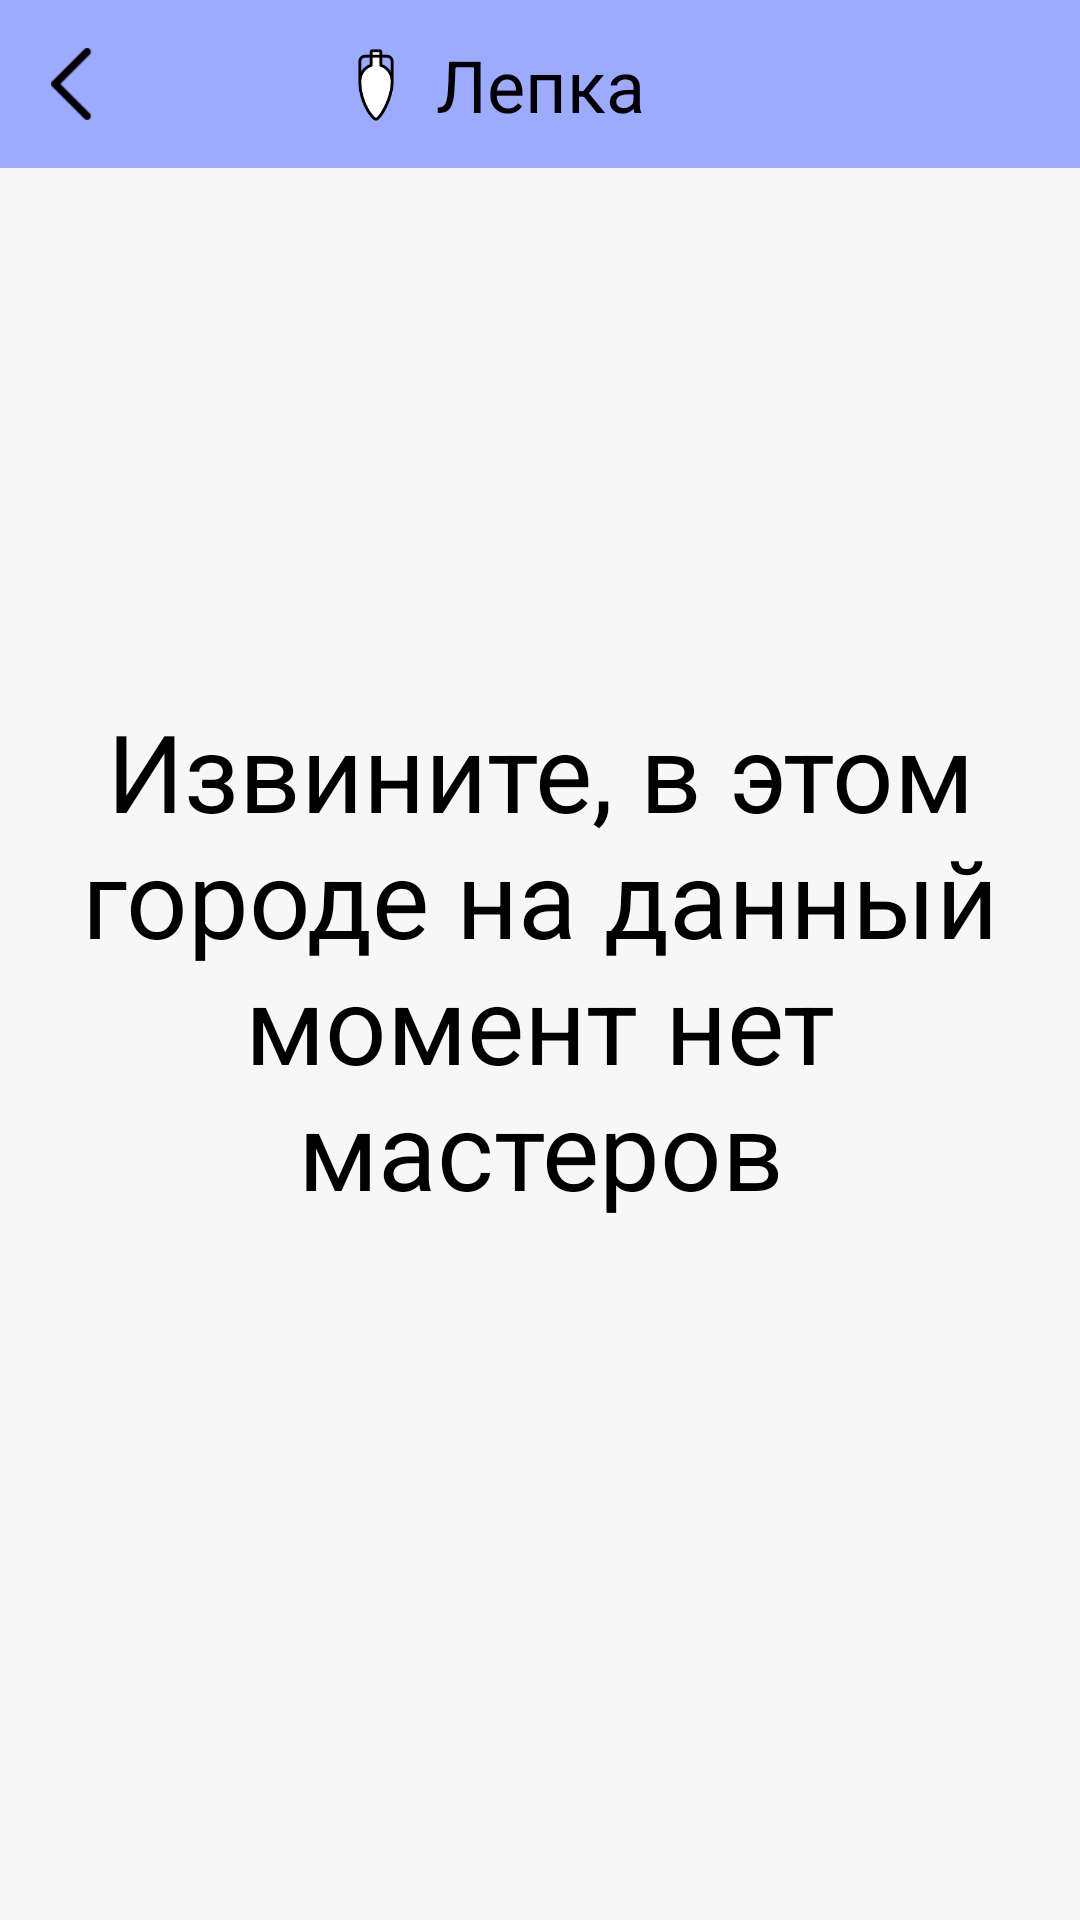

Icons on this 1080 x 1920 Android screen, each with the point to tap as (x,y):
arrow back: (71,84)
lepka: (376,85)
